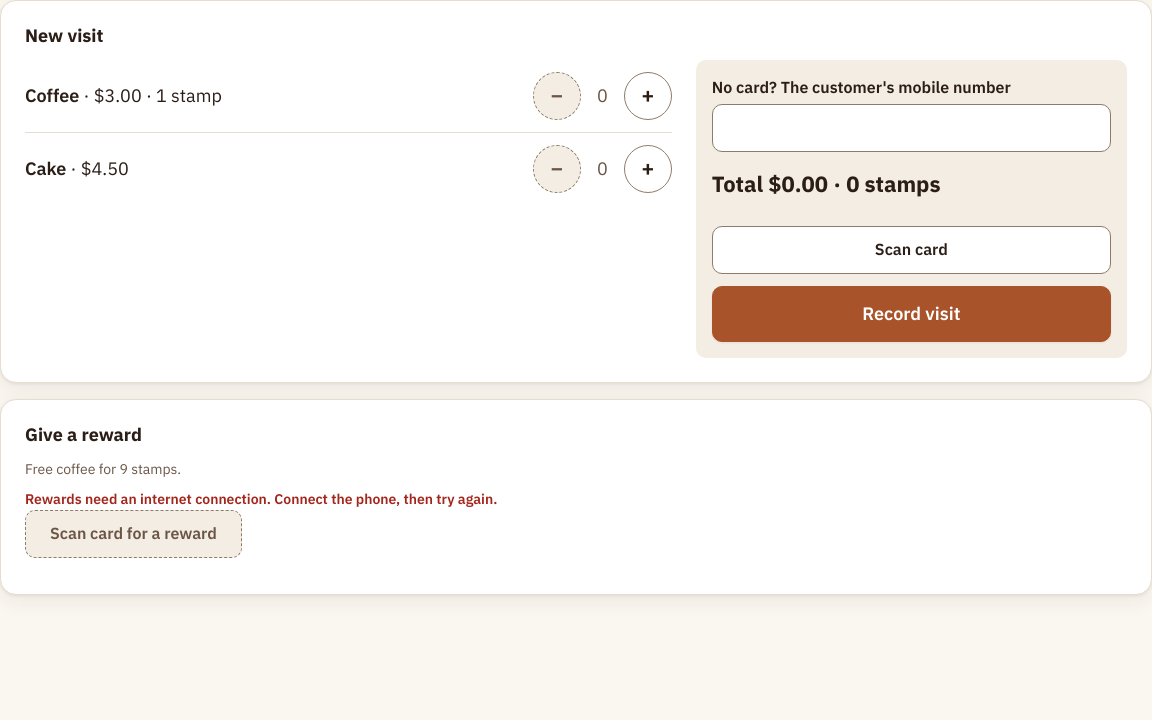
the counter's speed and recovery (phase 2) › clears an open order nobody touched for 5 minutes, and says so (K3)
Click the button named "One more Coffee" at (648, 96), box [624,72,672,120]
Wait 300000 ms
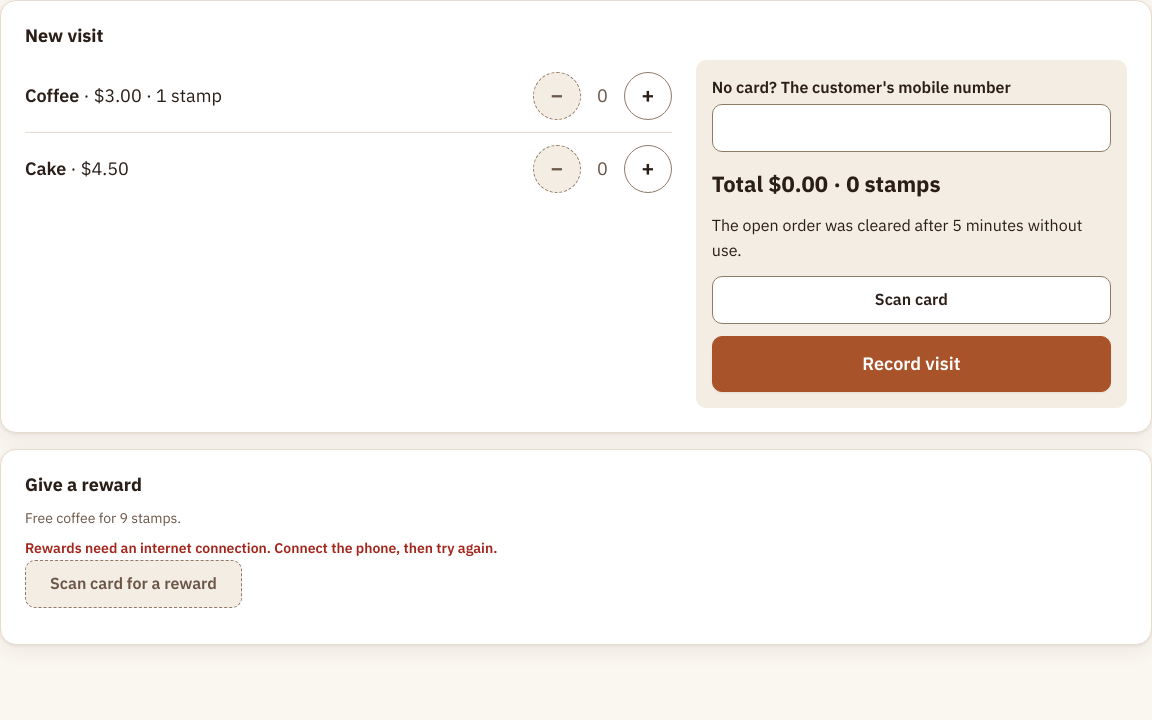
Check: the text "Total $0.00 · 0 stamps" is shown, box [712,168,941,201]
Check: the text "The open order was cleared after 5 minutes without use." is shown, box [712,214,1111,264]
